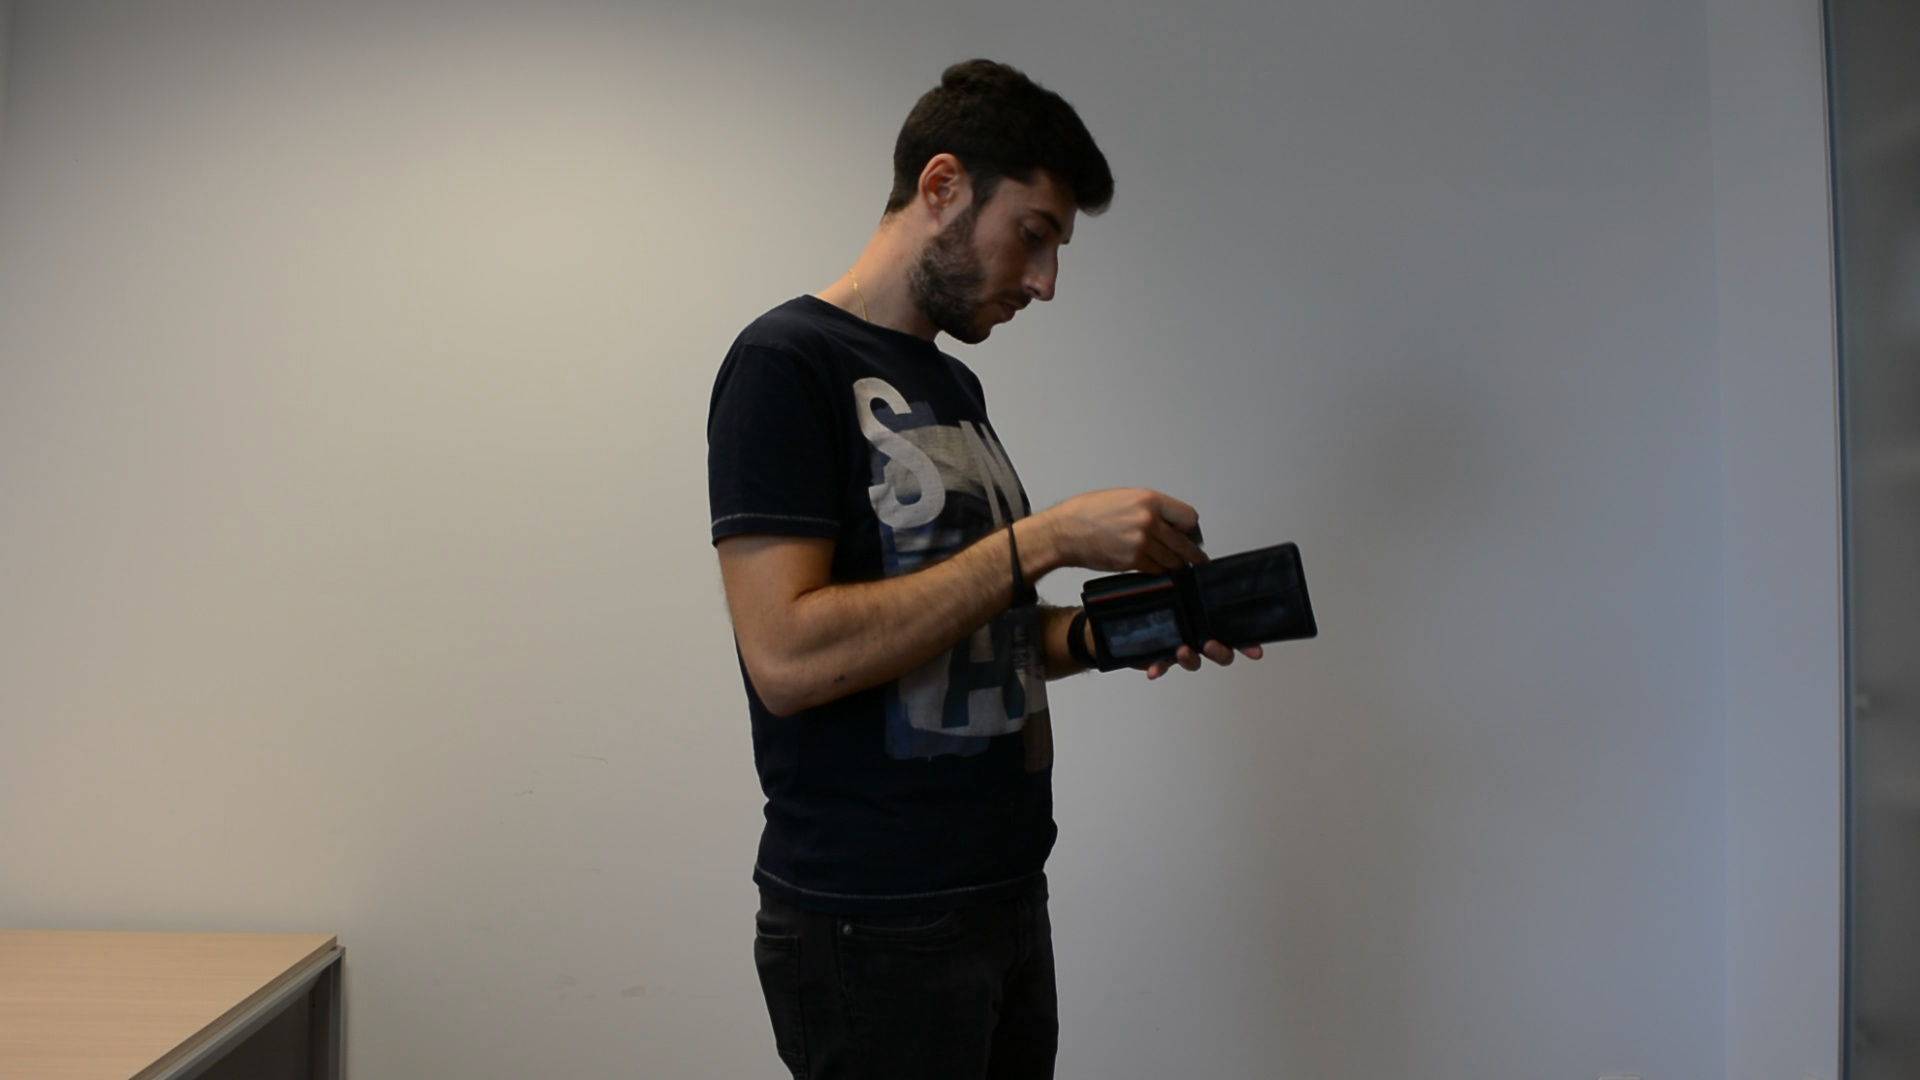monedero: (1079, 538, 1323, 676)
